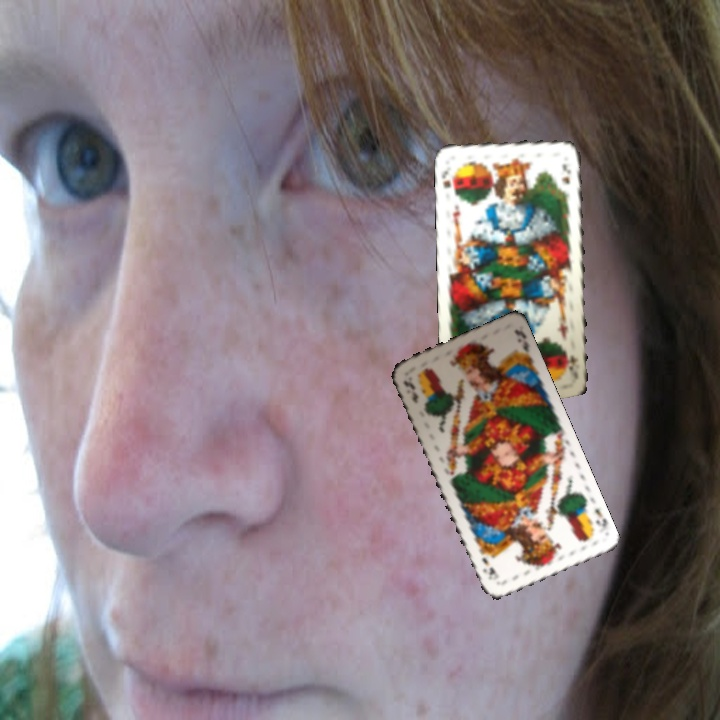EK: (399, 373, 421, 406), (591, 505, 610, 530)
SK: (437, 167, 458, 197), (562, 344, 580, 376)
